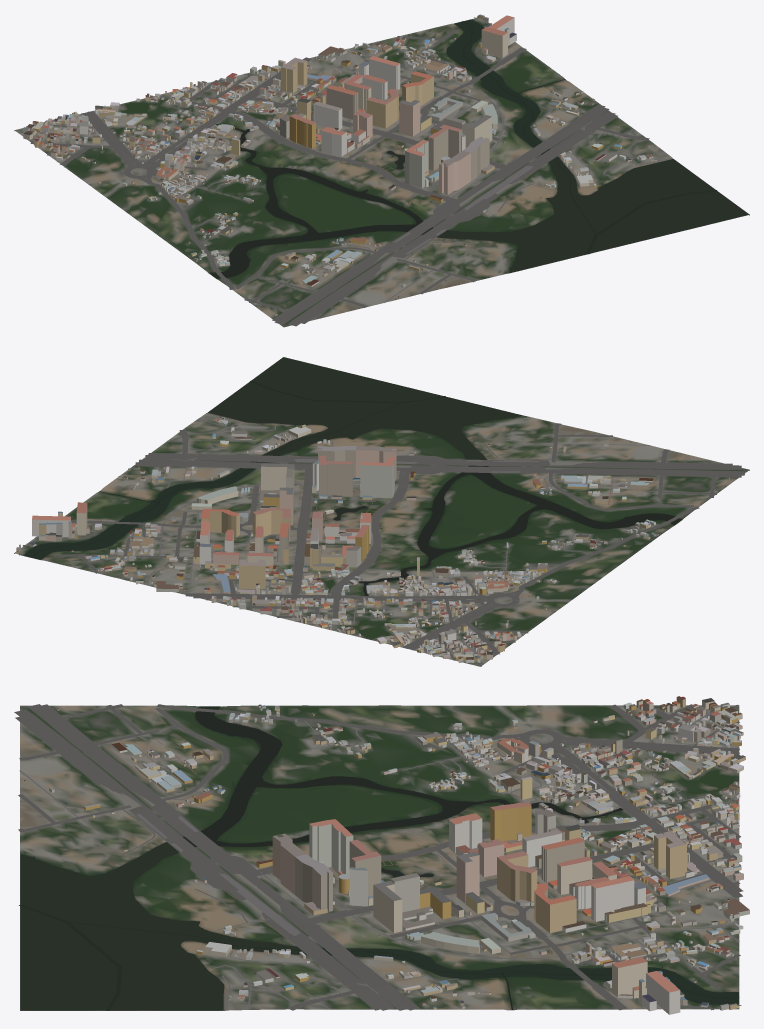
The picture shows the model from 3 angles, top to bottom: view 1: azimuth 30°, elevation 25°; view 2: azimuth 150°, elevation 25°; view 3: azimuth 270°, elevation 25°; orthographic projection. The views are drawn at different scales.
Parts seen in each view (by area): view 1: ground, buildings, water, roads; view 2: ground, buildings, water, roads; view 3: ground, buildings, water, roads.
Boxes of the visible parts, left/top/right/bottom form: ground: left=14, top=17, right=749, bottom=327; buildings: left=23, top=14, right=656, bottom=315; water: left=209, top=19, right=748, bottom=278; roads: left=14, top=17, right=672, bottom=326; ground: left=14, top=357, right=749, bottom=666; buildings: left=16, top=416, right=729, bottom=662; water: left=24, top=357, right=681, bottom=595; roads: left=19, top=413, right=744, bottom=666; ground: left=20, top=705, right=739, bottom=1010; buildings: left=24, top=696, right=749, bottom=1014; water: left=19, top=706, right=739, bottom=1010; roads: left=14, top=704, right=743, bottom=1010.
Bounding box in the file's own units: 1430 × 97.47 × 1433.
